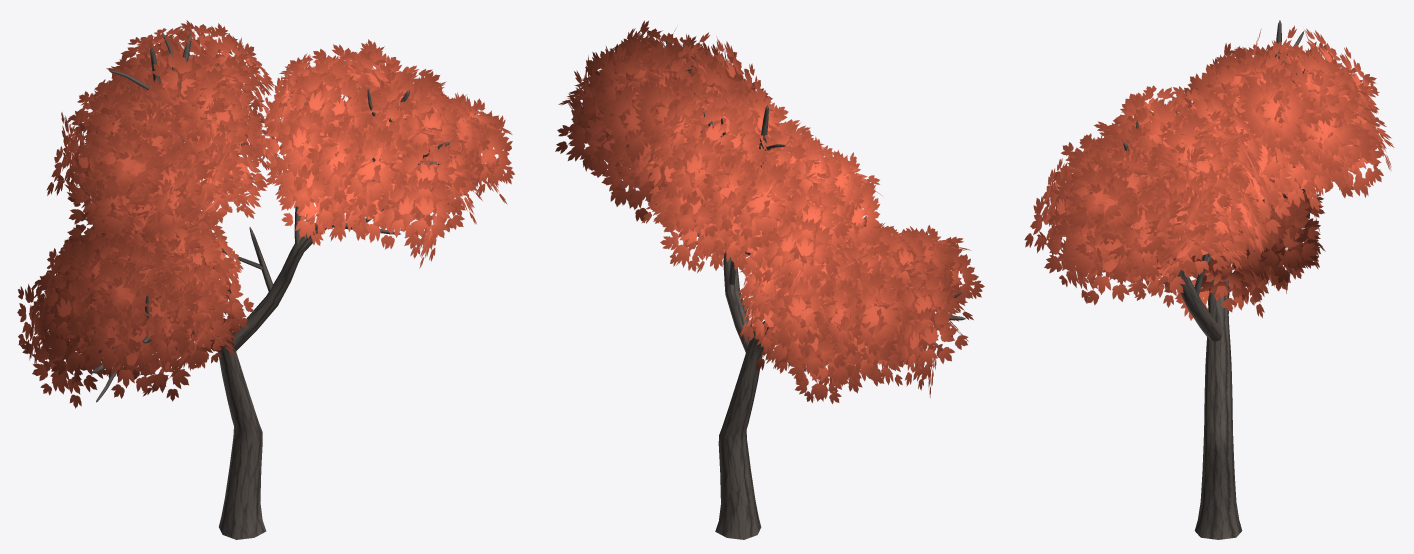
The model's file is MapleTree_5.glb.
3 renders of one model, left to right at view 1: azimuth 30°, elevation 25°; view 2: azimuth 150°, elevation 25°; view 3: azimuth 270°, elevation 25°, orthographic. The views are drawn at different scales.
Parts seen in each view (by area): view 1: MapleTree_5; view 2: MapleTree_5; view 3: MapleTree_5.
Boxes of the visible parts, x1,y1,x2,y2 form: MapleTree_5: [17, 20, 514, 539]; MapleTree_5: [555, 20, 984, 539]; MapleTree_5: [1024, 20, 1394, 539].
Size of the model in its own units: 7.01 by 7.28 by 5.08.
Materials: 2 (2 with a texture image).
